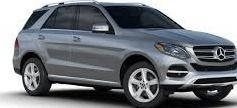SUV: (15, 3, 237, 108)
